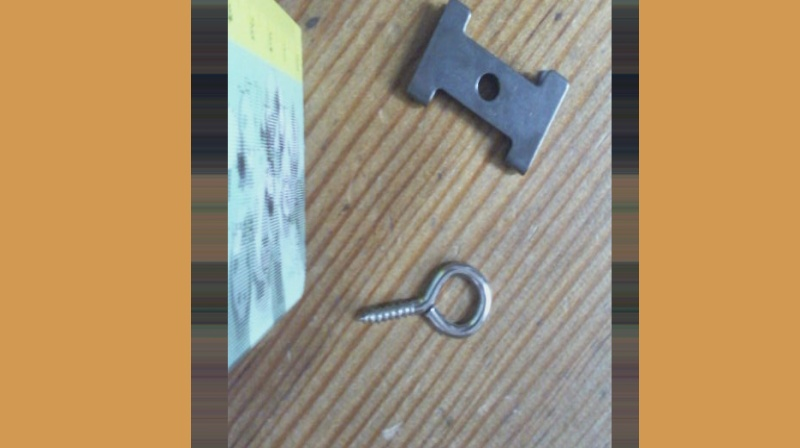O001: (350, 256, 491, 340)
O002: (401, 0, 570, 180)
